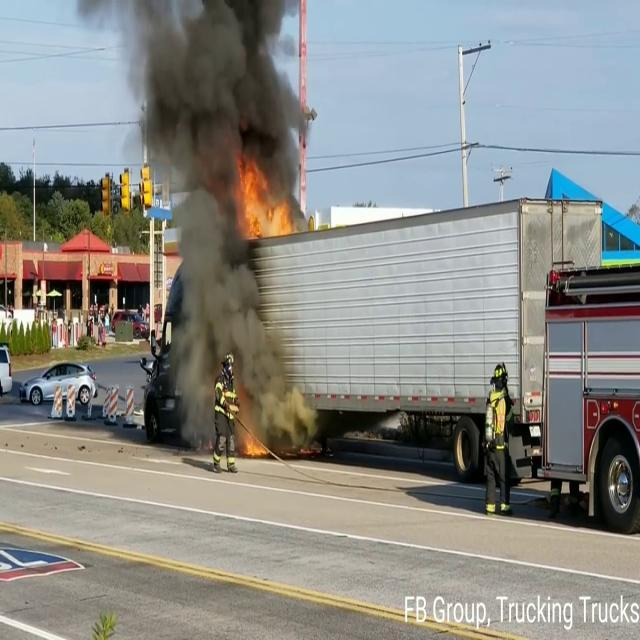Fire: (236, 158, 296, 242)
Smoke: (128, 0, 316, 447)
